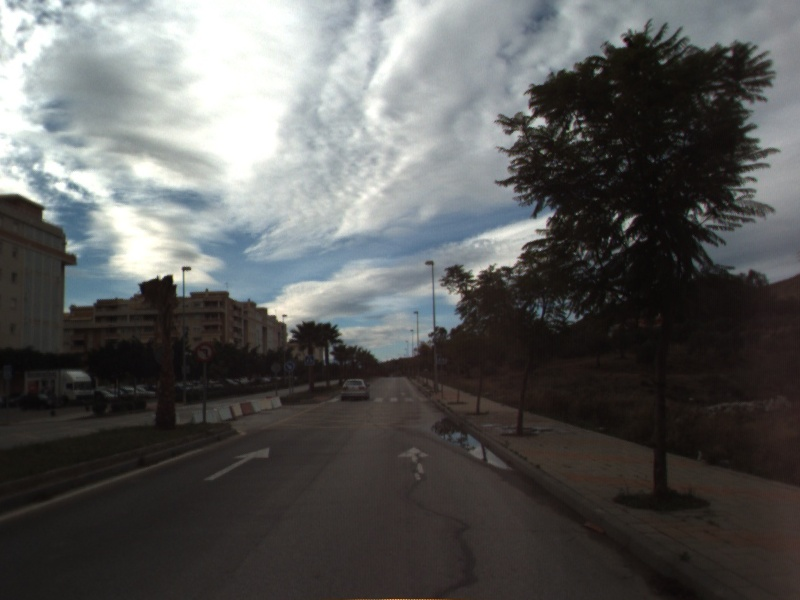STRAIGHT: (202, 446, 271, 482), (396, 444, 433, 483)
